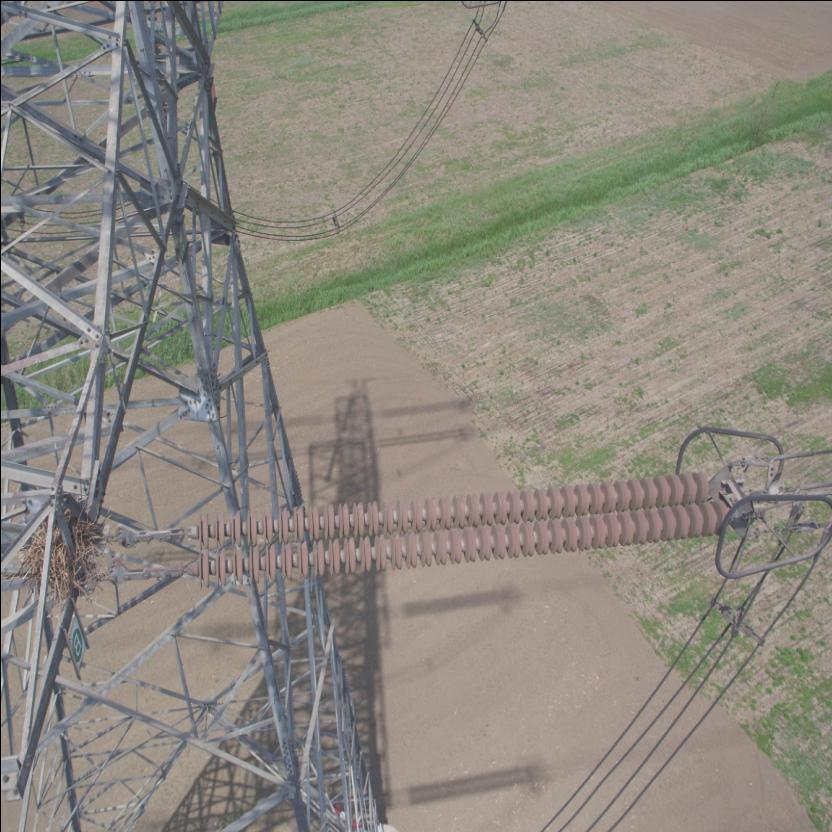insulator: (167, 463, 741, 590)
